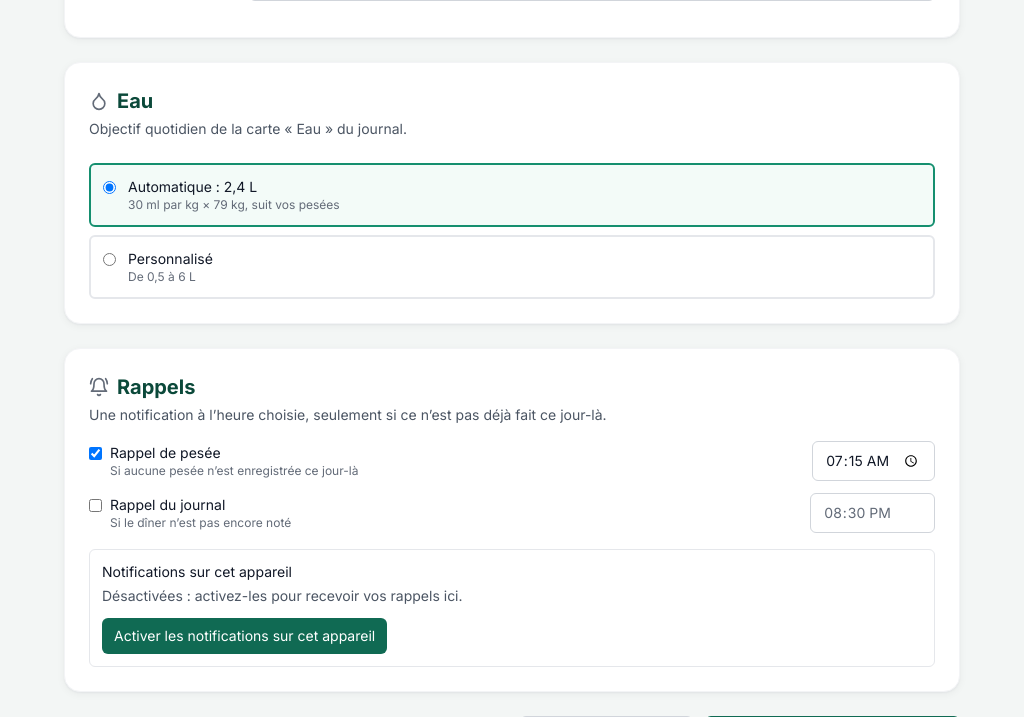
Test case: SettingsPage › ne reprogramme rien si des rappels sont déjà enregistrés
(page scrolled)
Click the button "Activer les notifications sur cet appareil": (245, 636) [102,618,387,654]
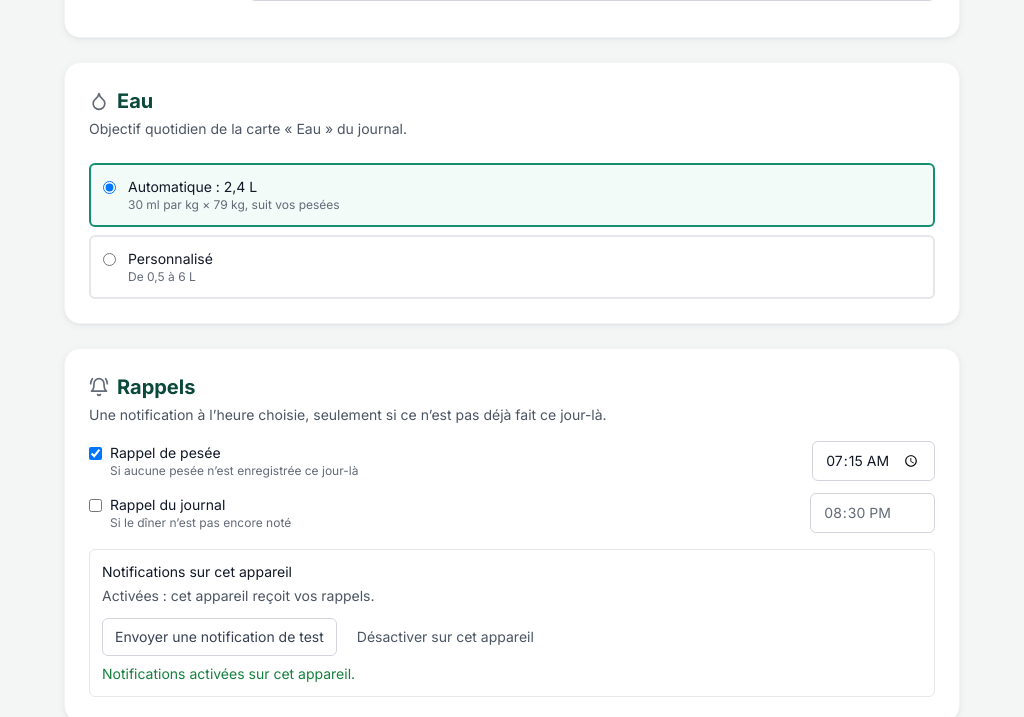
expect the text "Notifications activées sur cet appareil." is shown: met, box [102,665,355,682]
